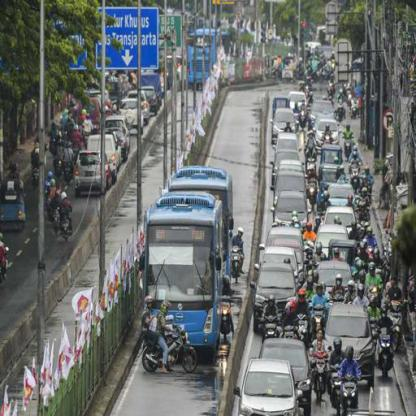bus: (146, 167, 232, 316)
car: (239, 357, 299, 415), (256, 257, 299, 306), (75, 148, 112, 197), (102, 116, 130, 161), (322, 206, 356, 238), (318, 144, 343, 184), (140, 73, 164, 113)
motorbike: (139, 329, 198, 375), (372, 324, 403, 381), (335, 373, 362, 415), (226, 242, 249, 283), (216, 299, 238, 337)
